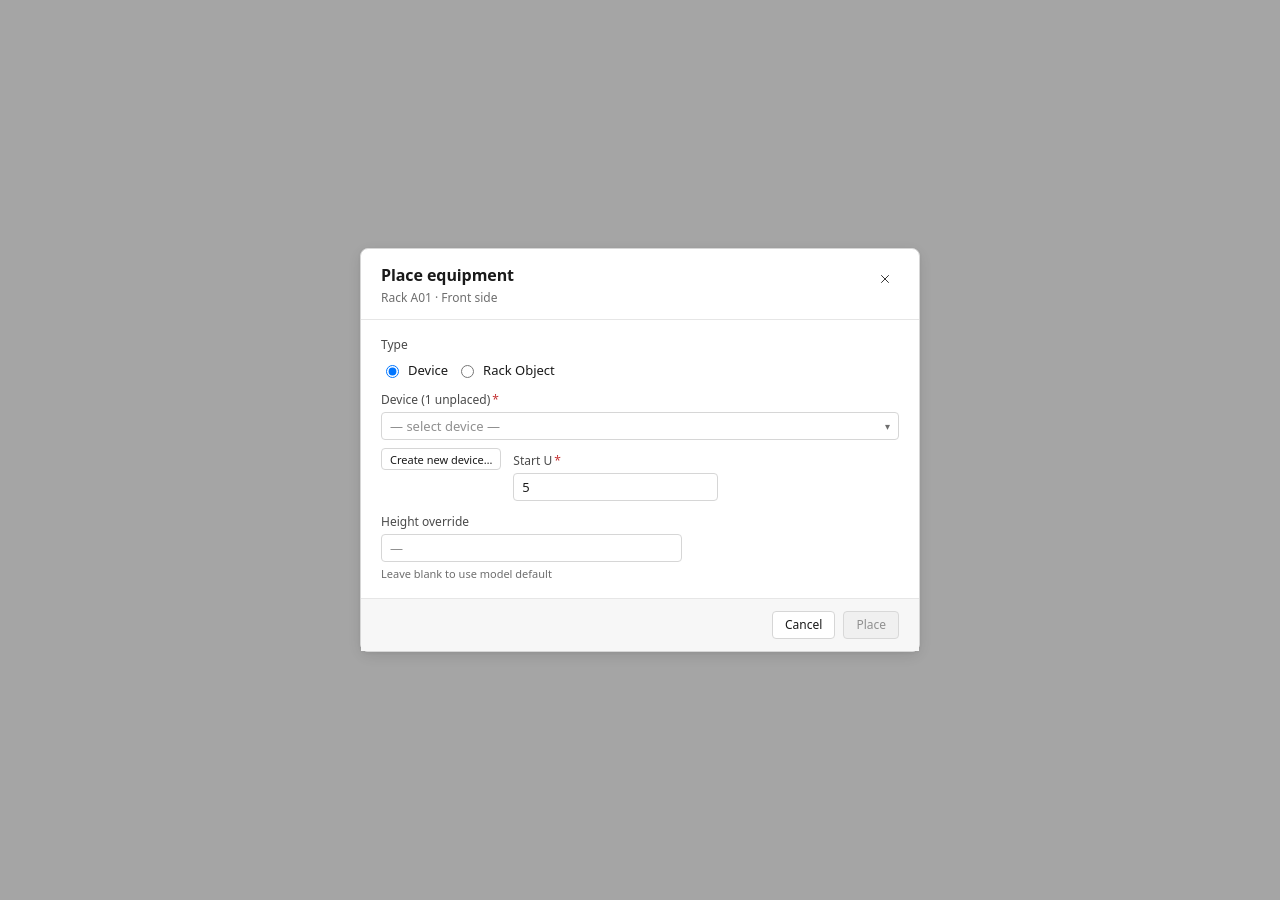
Test: PlacePlacementModal — device SearchableSelect search › search with no match shows 'No results'
The width and height of the screenshot is (1280, 900).
Click the button with test id "device-select-trigger". click: {"x": 445, "y": 426}
box: [381,412,899,440]
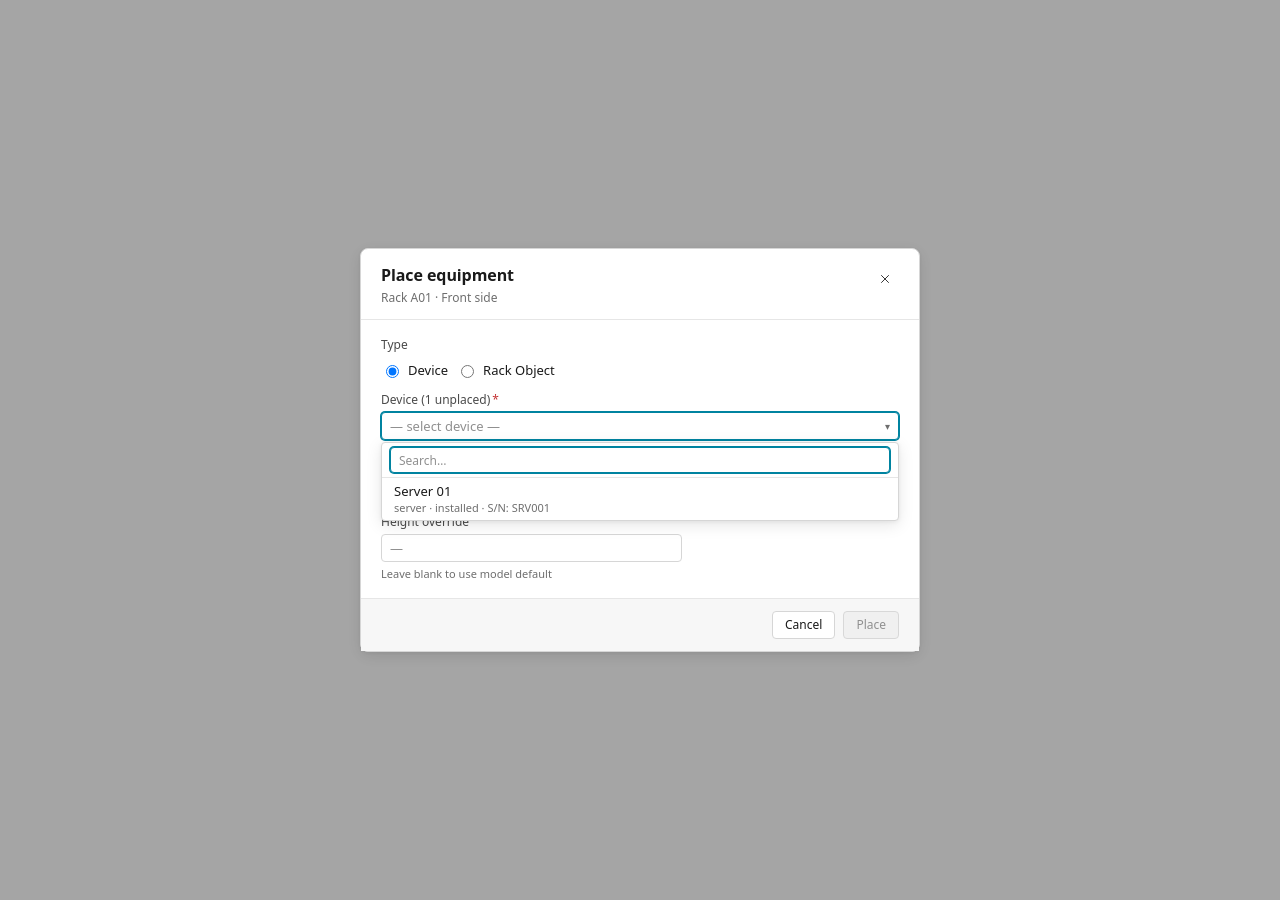
Expected: the option with class "ss-option" is shown, [394,482,550,515]
Type "zzz-no-match" into the field with test id "device-select-search". click: {"x": 640, "y": 460}
box: [390,447,890,473]
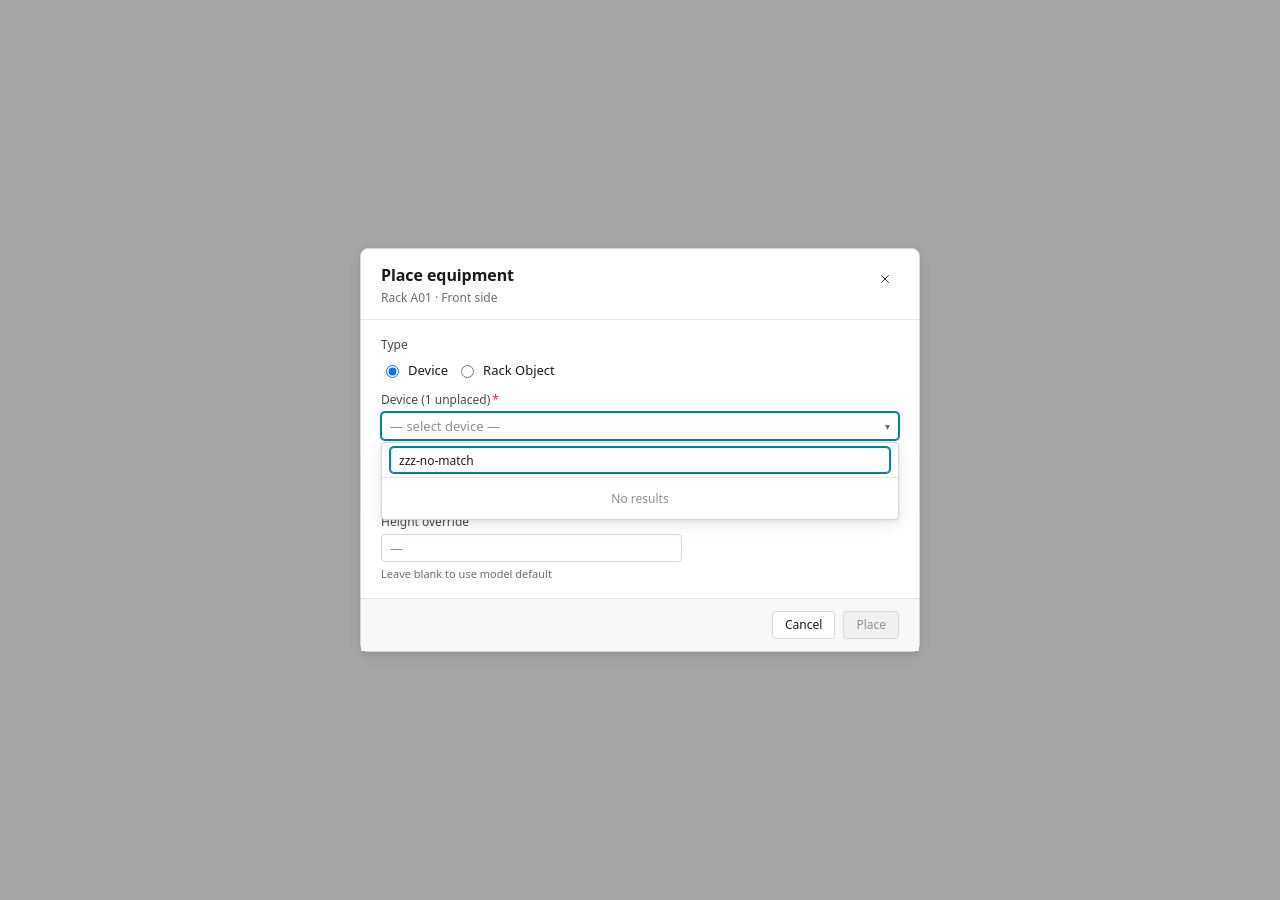
Expected: the text with class "ss-empty" reads "No results", [611,490,669,507]
